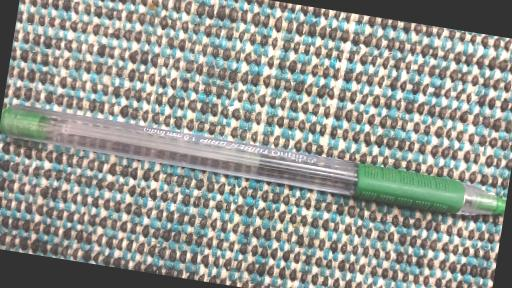pen: (0, 105, 508, 219)
